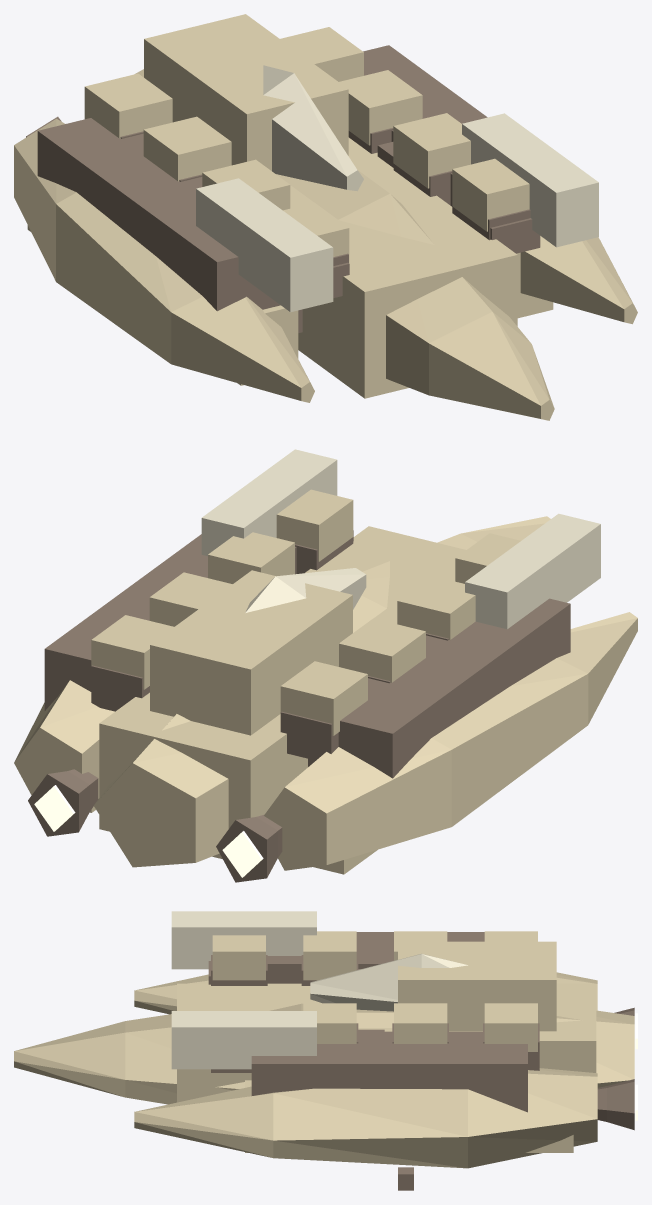
3 views of the same model, one above another, from view 1: azimuth 30°, elevation 25°; view 2: azimuth 150°, elevation 25°; view 3: azimuth 270°, elevation 25° (orthographic). The views are drawn at different scales.
Size of the model in its own units: 13.38 by 6.57 by 22.03.
